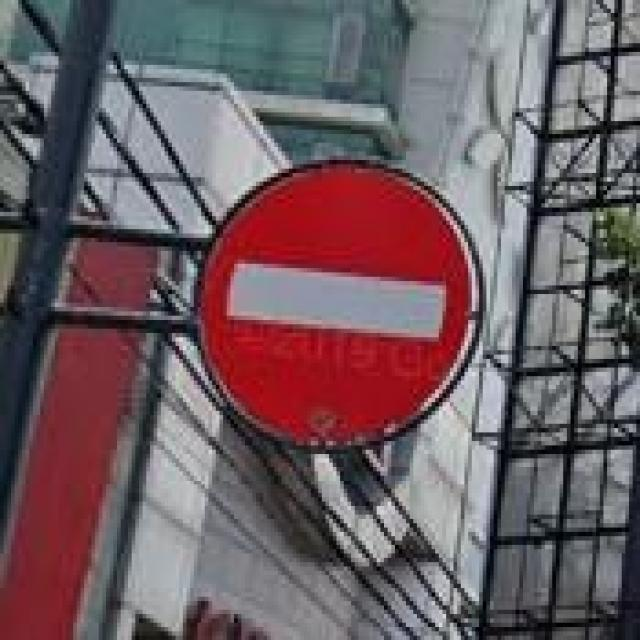traffic sign: (201, 164, 472, 450)
